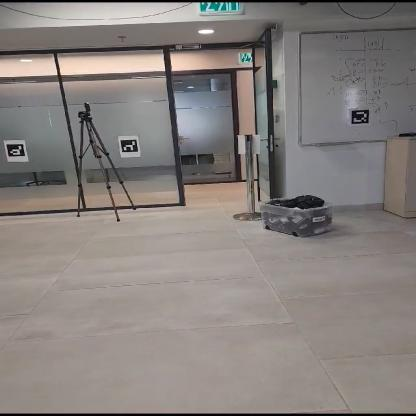open: (171, 70, 261, 206)
